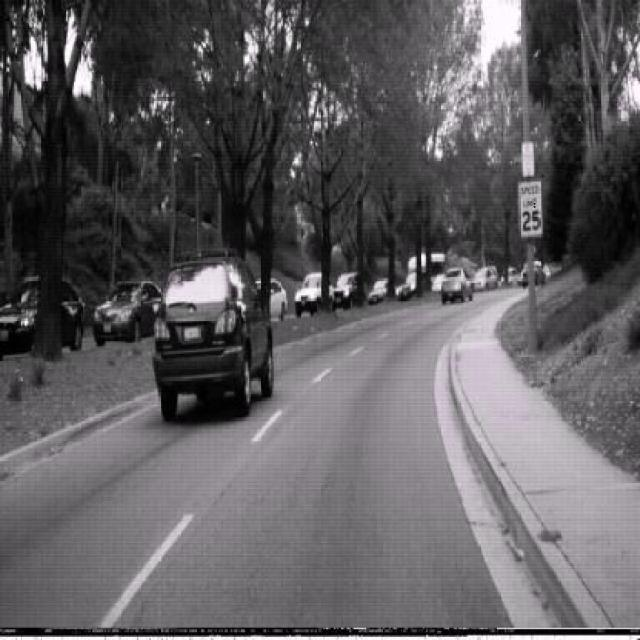speedLimit25: (517, 177, 544, 238)
